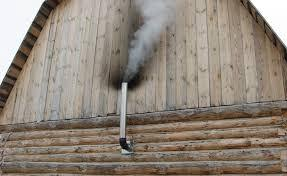smoke: (115, 0, 179, 85)
